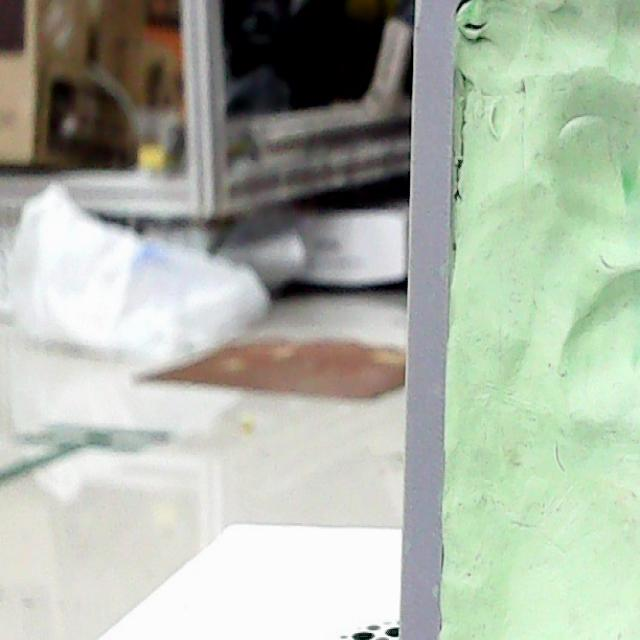block: (400, 0, 640, 629)
